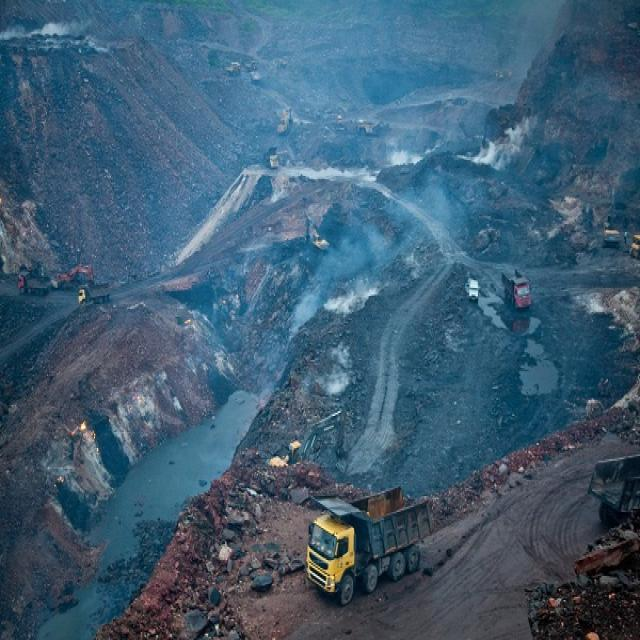dump_truck: (309, 493, 437, 593), (593, 457, 640, 525), (502, 269, 534, 311), (18, 268, 52, 297), (75, 282, 111, 308)
excavator: (598, 186, 624, 256), (304, 208, 329, 256), (56, 266, 97, 286)
light_vehicle: (463, 275, 481, 307)
